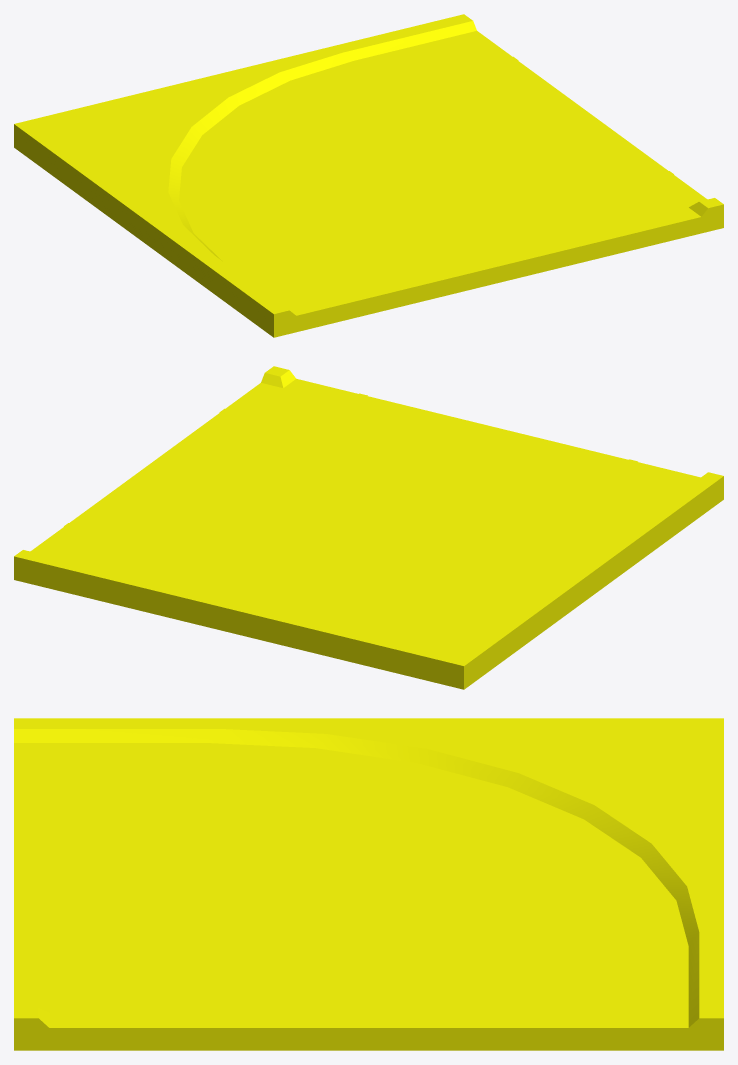
The model's file is kaykit-road-corner-curved.glb.
3 renders of one model, top to bottom at view 1: azimuth 30°, elevation 25°; view 2: azimuth 150°, elevation 25°; view 3: azimuth 270°, elevation 25°, orthographic. The views are drawn at different scales.
Visible parts, largest first — view 1: road_corner_curved; view 2: road_corner_curved; view 3: road_corner_curved.
Boxes of the visible parts, bbox=[...] form: road_corner_curved: bbox=[14, 14, 723, 337]; road_corner_curved: bbox=[14, 366, 723, 689]; road_corner_curved: bbox=[14, 718, 723, 1050].
Size of the model in its own units: 2 by 0.1001 by 2.
